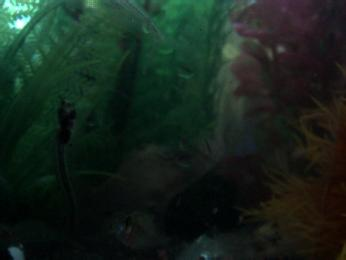X-ray fish: (108, 208, 173, 252)
glassfish: (49, 87, 87, 221), (99, 1, 171, 53)
siberian prawn: (176, 223, 288, 260)
